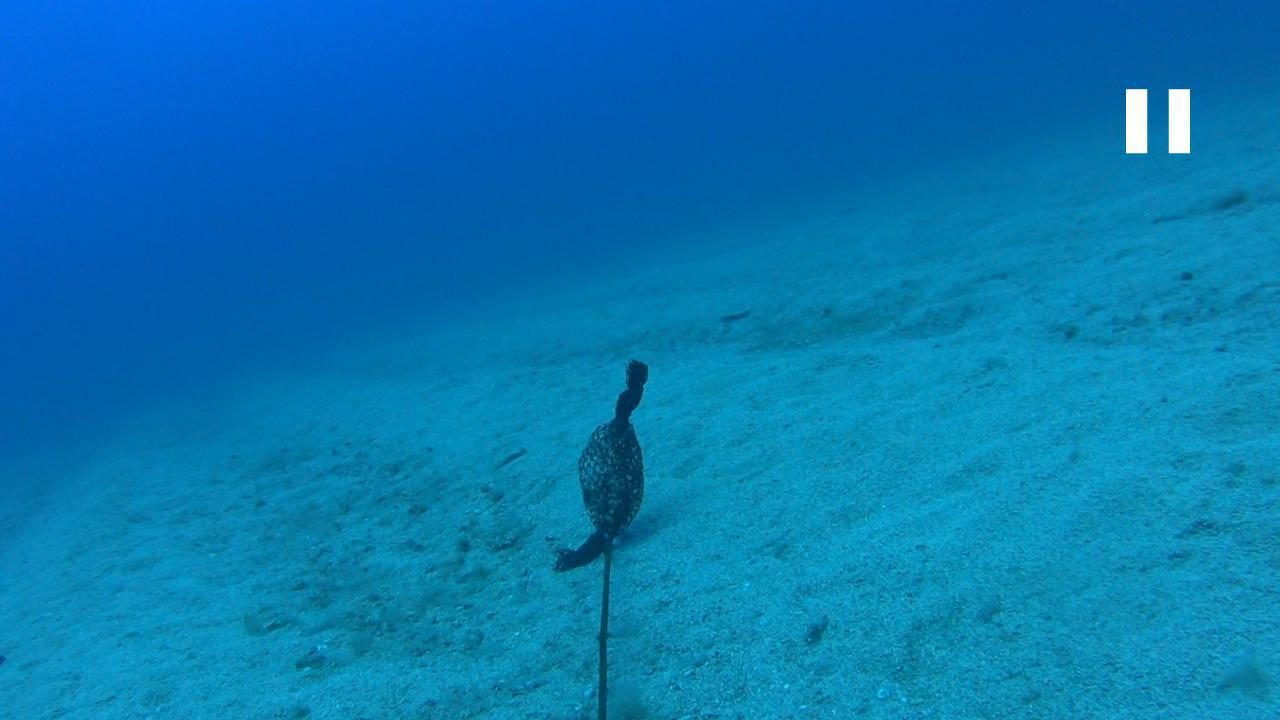bothus: (488, 441, 529, 468), (714, 299, 749, 328)
